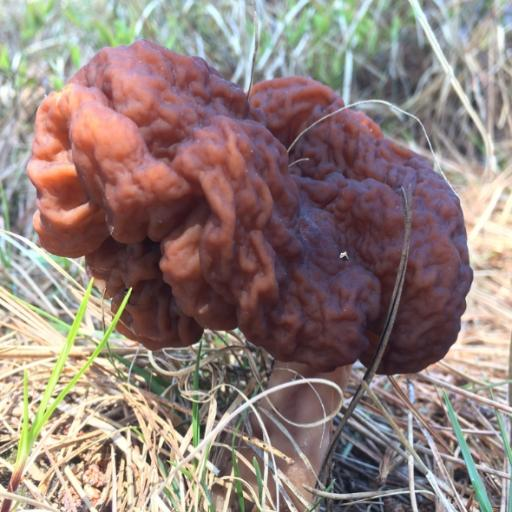False Morel: (0, 21, 506, 419)
